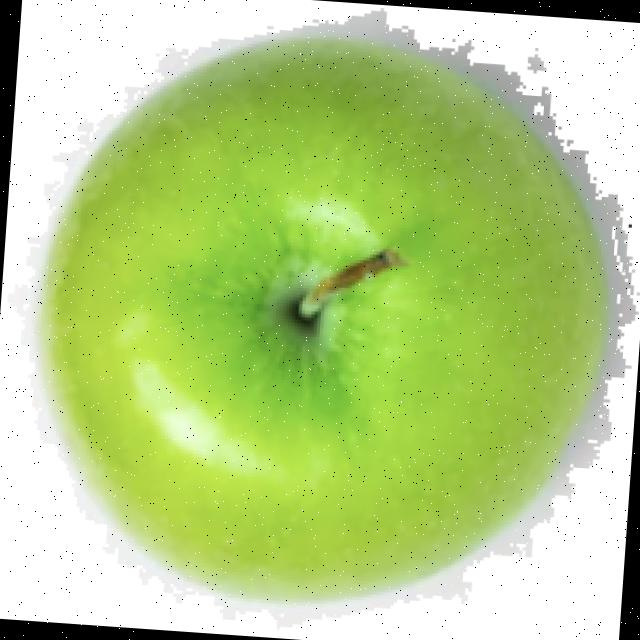apple: (4, 6, 640, 631)
